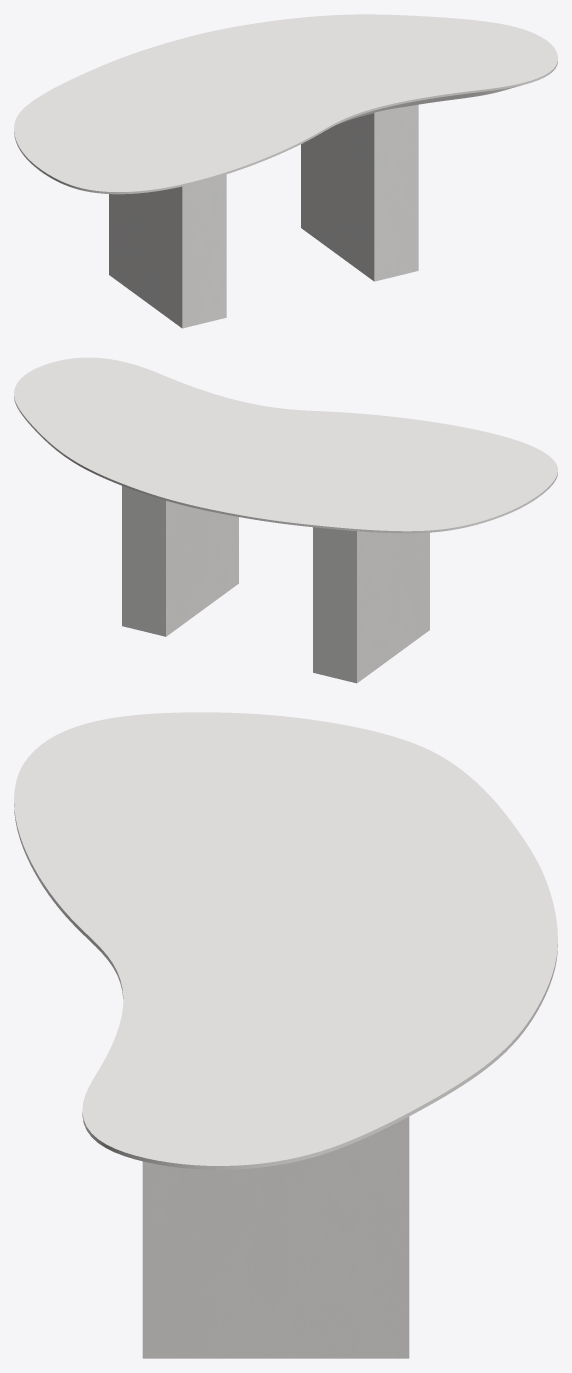
File: purewhite_leaf1_facet_ridge.glb
3 renders of one model, top to bottom at view 1: azimuth 30°, elevation 25°; view 2: azimuth 150°, elevation 25°; view 3: azimuth 270°, elevation 25°, orthographic. The views are drawn at different scales.
Parts seen in each view (by area): view 1: facet_leaf1, ridge; view 2: facet_leaf1, ridge; view 3: facet_leaf1, ridge.
Part boxes in pixels (<box>): facet_leaf1: <box>14,14,557,194</box>; ridge: <box>109,104,418,328</box>; facet_leaf1: <box>14,357,557,533</box>; ridge: <box>122,486,429,683</box>; facet_leaf1: <box>14,712,557,1169</box>; ridge: <box>142,1116,409,1358</box>.
Bounding box in the file's own units: 7.5 × 2.5 × 3.8.
Materials: 1 (1 with a texture image).
